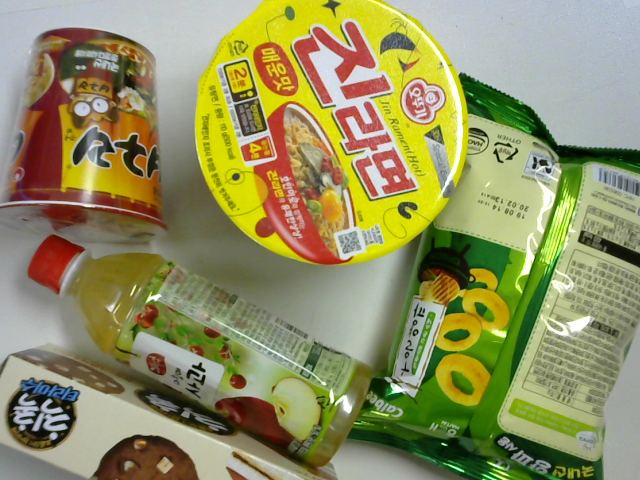Chicchok_Tiramisu: (1, 344, 346, 480)
Grilled_Onions: (347, 64, 639, 480)
Jinlamyeon_Hot_Taste_Large_Cup: (181, 1, 477, 268)
Morning_Apple_500ml: (12, 230, 377, 462)
Raccoon: (1, 25, 173, 248)
